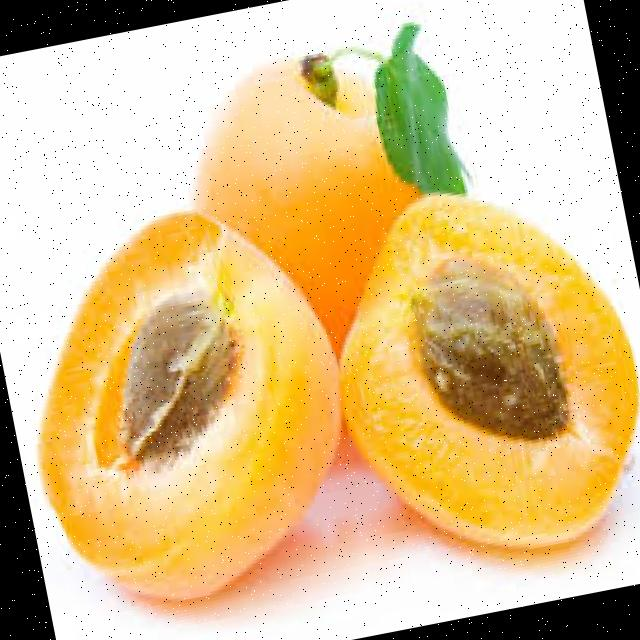Cekirdek: (412, 260, 565, 439)
Kayisi: (340, 194, 637, 547)
Yaprak: (348, 24, 467, 190)
